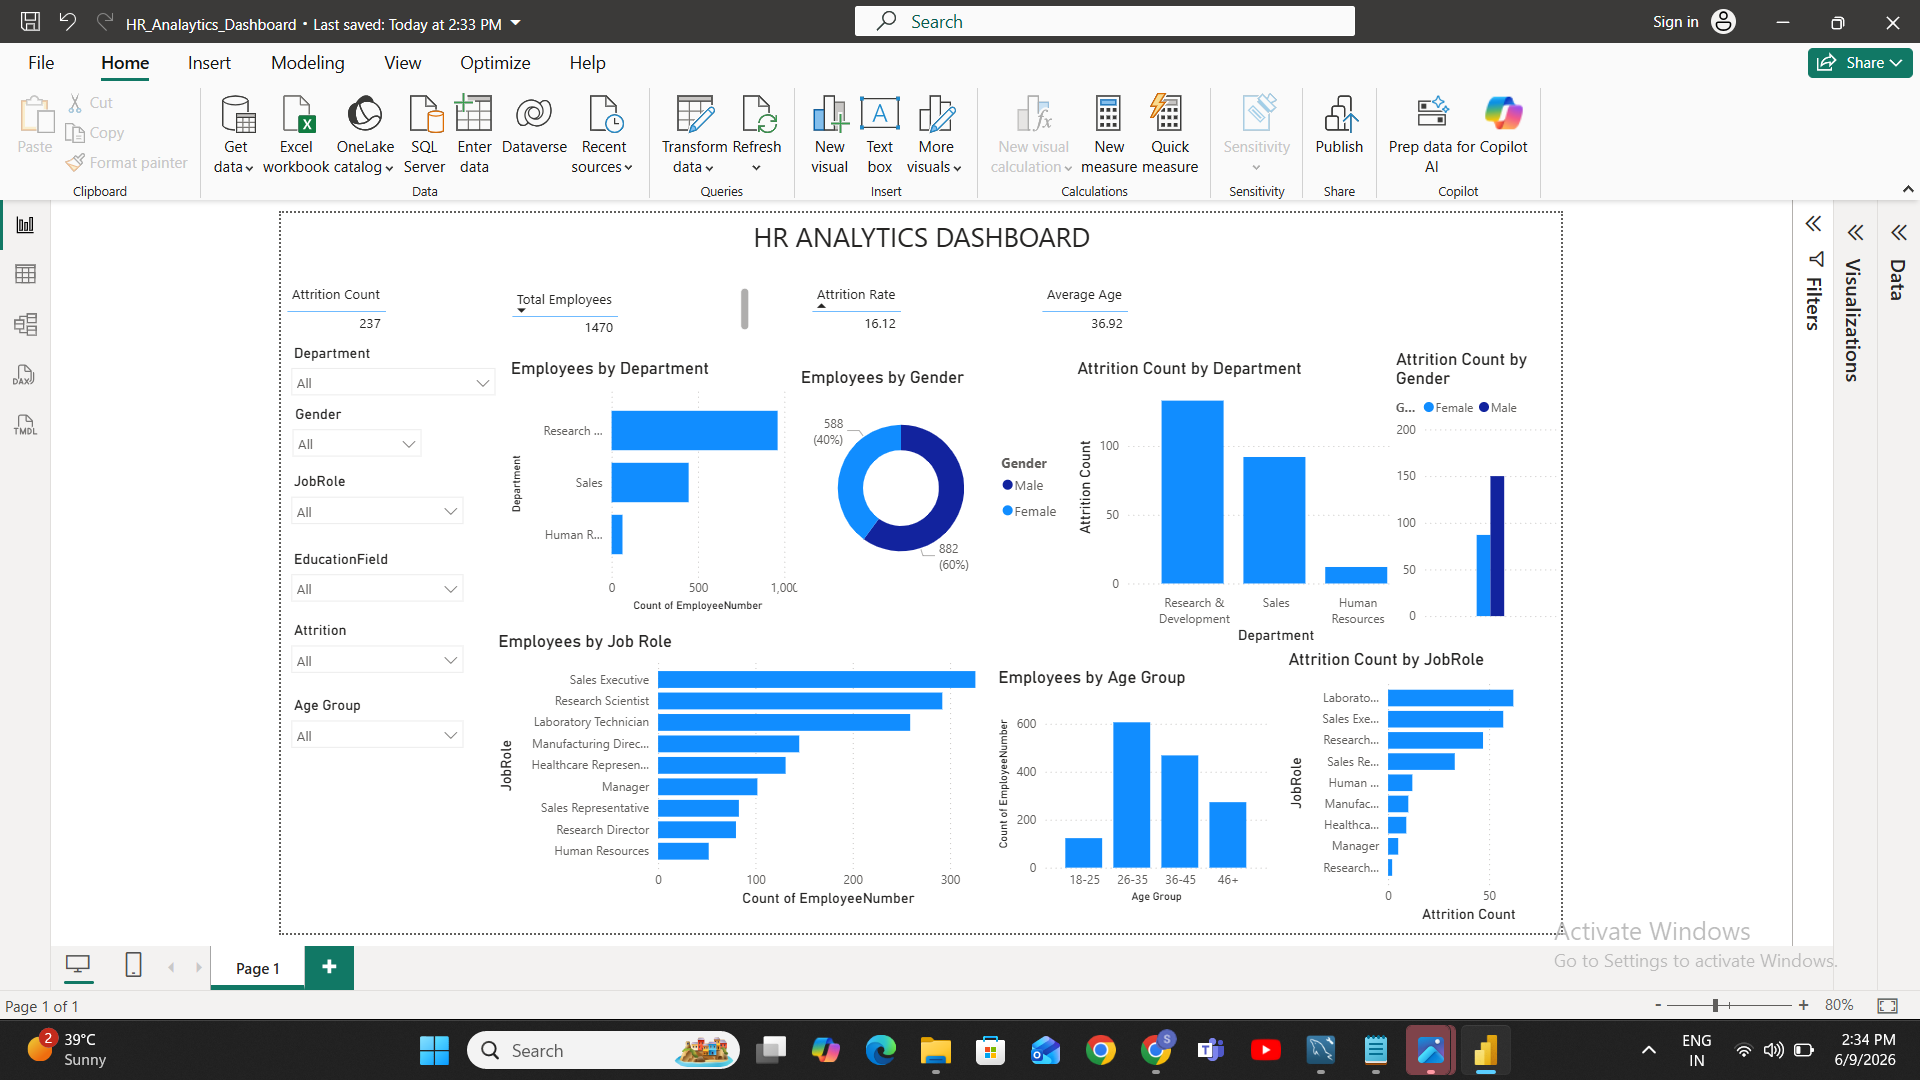

This screenshot's page, from the dashboard's own definition file:
{"tool":"powerbi","page":{"name":"Page 1","canvas":[1280,720],"ordinal":0},"visuals":[{"type":"tableEx","fields":{"Values":["cleaned_data.Attrition Count"]},"box":[0,64.8,212.8,62.4],"z":0},{"type":"tableEx","fields":{"Values":["cleaned_data.Total Employees"]},"box":[225,69.7,248.2,57.5],"z":1000},{"type":"tableEx","fields":{"Values":["cleaned_data.Attrition Rate"]},"box":[524.6,64.8,229.9,61.1],"z":2000},{"type":"clusteredBarChart","title":"Employees by Department","fields":{"Category":["cleaned_data.Department"],"Y":["CountNonNull(cleaned_data.EmployeeNumber)"]},"box":[224.6,145.2,298.6,258.2],"z":3000},{"type":"donutChart","title":"Employees by Gender","fields":{"Category":["cleaned_data.Gender"],"Y":["CountNonNull(cleaned_data.EmployeeNumber)"]},"box":[514.8,154.1,276.4,223.8],"z":4000},{"type":"clusteredBarChart","title":"Employees by Job Role","fields":{"Y":["CountNonNull(cleaned_data.EmployeeNumber)"],"Category":["cleaned_data.JobRole"]},"box":[212.5,416.9,520.4,281.1],"z":5000},{"type":"clusteredColumnChart","fields":{"Y":["cleaned_data.Attrition Count"],"Category":["cleaned_data.Department"]},"box":[790.8,145.2,356.4,290.5],"z":6000},{"type":"clusteredColumnChart","title":"Employees by Age Group","fields":{"Category":["cleaned_data.Age Group"],"Y":["CountNonNull(cleaned_data.EmployeeNumber)"]},"box":[712.9,453.7,278.8,240.9],"z":7000},{"type":"slicer","fields":{"Values":["cleaned_data.Department"]},"box":[0,126.4,224.6,114.3],"z":8000},{"type":"slicer","fields":{"Values":["cleaned_data.Gender"]},"box":[1.3,186.9,149.3,157.3],"z":9000},{"type":"slicer","fields":{"Values":["cleaned_data.JobRole"]},"box":[0,255.5,192.3,294.5],"z":10000},{"type":"textbox","box":[1.4,0,1278.9,70],"z":11000},{"type":"slicer","fields":{"Values":["cleaned_data.EducationField"]},"box":[0,332.2,192.3,168.1],"z":12000},{"type":"slicer","fields":{"Values":["cleaned_data.Attrition"]},"box":[0,403.4,192.3,168.1],"z":13000},{"type":"slicer","fields":{"Values":["cleaned_data.Age Group"]},"box":[0,478.8,192.3,143.9],"z":14000},{"type":"clusteredColumnChart","fields":{"Series":["cleaned_data.Gender"],"Y":["cleaned_data.Attrition Count"]},"box":[1109.5,135.8,170.8,281.1],"z":15000},{"type":"clusteredBarChart","fields":{"Y":["cleaned_data.Attrition Count"],"Category":["cleaned_data.JobRole"]},"box":[1001.9,435.7,278.4,278.4],"z":16000},{"type":"tableEx","fields":{"Values":["cleaned_data.Average Age"]},"box":[754.4,64.6,251.5,61.9],"z":17000}]}

Visuals, with their boxes on the page's 1280x720 design canvas (x1, y1, x2, y2). These are canvas units, not pixel positions in the 1920x1080 screenshot, which may show the page scaled, cropped or inside an application window:
tableEx - cleaned_data.Attrition Count: box(0, 65, 213, 127)
tableEx - cleaned_data.Total Employees: box(225, 70, 473, 127)
tableEx - cleaned_data.Attrition Rate: box(525, 65, 754, 126)
"Employees by Department" clusteredBarChart: box(225, 145, 523, 403)
"Employees by Gender" donutChart: box(515, 154, 791, 378)
"Employees by Job Role" clusteredBarChart: box(212, 417, 733, 698)
clusteredColumnChart - cleaned_data.Attrition Count x cleaned_data.Department: box(791, 145, 1147, 436)
"Employees by Age Group" clusteredColumnChart: box(713, 454, 992, 695)
slicer - cleaned_data.Department: box(0, 126, 225, 241)
slicer - cleaned_data.Gender: box(1, 187, 151, 344)
slicer - cleaned_data.JobRole: box(0, 256, 192, 550)
textbox: box(1, 0, 1280, 70)
slicer - cleaned_data.EducationField: box(0, 332, 192, 500)
slicer - cleaned_data.Attrition: box(0, 403, 192, 572)
slicer - cleaned_data.Age Group: box(0, 479, 192, 623)
clusteredColumnChart - cleaned_data.Gender x cleaned_data.Attrition Count: box(1110, 136, 1280, 417)
clusteredBarChart - cleaned_data.Attrition Count x cleaned_data.JobRole: box(1002, 436, 1280, 714)
tableEx - cleaned_data.Average Age: box(754, 65, 1006, 126)
